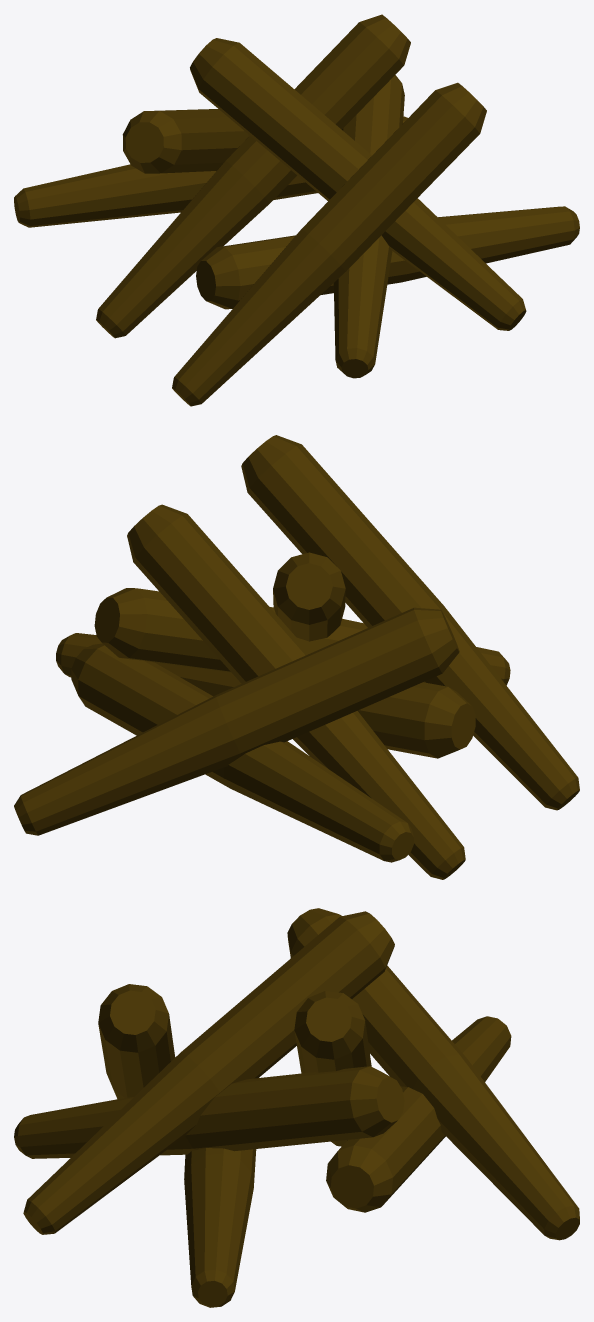
File: Firepit_Wood.fbx
3 views of the same model, one above another, from view 1: azimuth 30°, elevation 25°; view 2: azimuth 150°, elevation 25°; view 3: azimuth 270°, elevation 25° (orthographic). The views are drawn at different scales.
Parts seen in each view (by area): view 1: pCylinder24; view 2: pCylinder24; view 3: pCylinder24.
Part boxes in pixels (<box>): pCylinder24: <box>14,14,579,406</box>; pCylinder24: <box>14,435,579,879</box>; pCylinder24: <box>14,908,579,1307</box>.
Bounding box in the file's own units: 1.29 × 0.7454 × 1.32.
